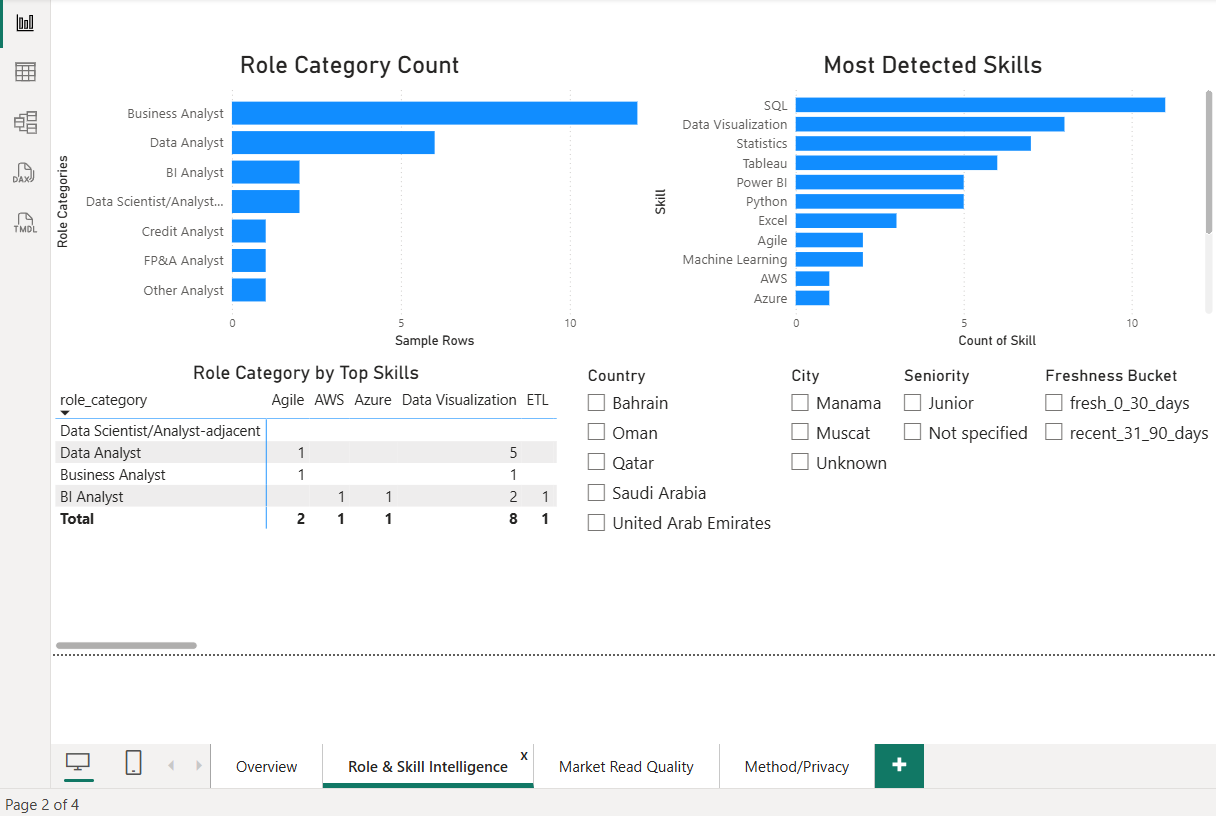

Layout of this report page (visuals, bound fields, positions):
{"tool":"powerbi","page":{"name":"Role & Skill Intelligence","canvas":[1280,720],"ordinal":1},"visuals":[{"type":"clusteredBarChart","title":"Role Category Count","fields":{"Category":["public-sample-may29.role_category"],"Y":["CountNonNull(public-sample-may29.sample_row)"]},"box":[0,57.6,655.9,332.1],"z":0},{"type":"clusteredBarChart","title":"Most Detected Skills","fields":{"Category":["Skills.Skill"],"Y":["CountNonNull(Skills.Skill)"]},"box":[655.9,57.6,624.4,332.1],"z":1},{"type":"pivotTable","title":"Role Category by Top Skills","fields":{"Rows":["Skills.role_category"],"Columns":["Skills.Skill"],"Values":["CountNonNull(Skills.Skill)"]},"box":[0,399.3,559.9,321.1],"z":2},{"type":"slicer","fields":{"Values":["Skills.country"]},"box":[576.3,399.3,223.7,321.1],"z":3},{"type":"slicer","fields":{"Values":["Skills.city"]},"box":[800,399.3,123.5,321.1],"z":4},{"type":"slicer","fields":{"Values":["Skills.seniority"]},"box":[923.5,399.3,155.1,321.1],"z":5},{"type":"slicer","fields":{"Values":["Skills.freshness_bucket"]},"box":[1078.6,399.3,201.7,321.1],"z":6}]}

Visuals, with their boxes on the page's 1280x720 design canvas (x1, y1, x2, y2). These are canvas units, not pixel positions in the 1216x816 screenshot, which may show the page scaled, cropped or inside an application window:
"Role Category Count" clusteredBarChart: left=0, top=58, right=656, bottom=390
"Most Detected Skills" clusteredBarChart: left=656, top=58, right=1280, bottom=390
"Role Category by Top Skills" pivotTable: left=0, top=399, right=560, bottom=720
slicer - Skills.country: left=576, top=399, right=800, bottom=720
slicer - Skills.city: left=800, top=399, right=924, bottom=720
slicer - Skills.seniority: left=924, top=399, right=1079, bottom=720
slicer - Skills.freshness_bucket: left=1079, top=399, right=1280, bottom=720
